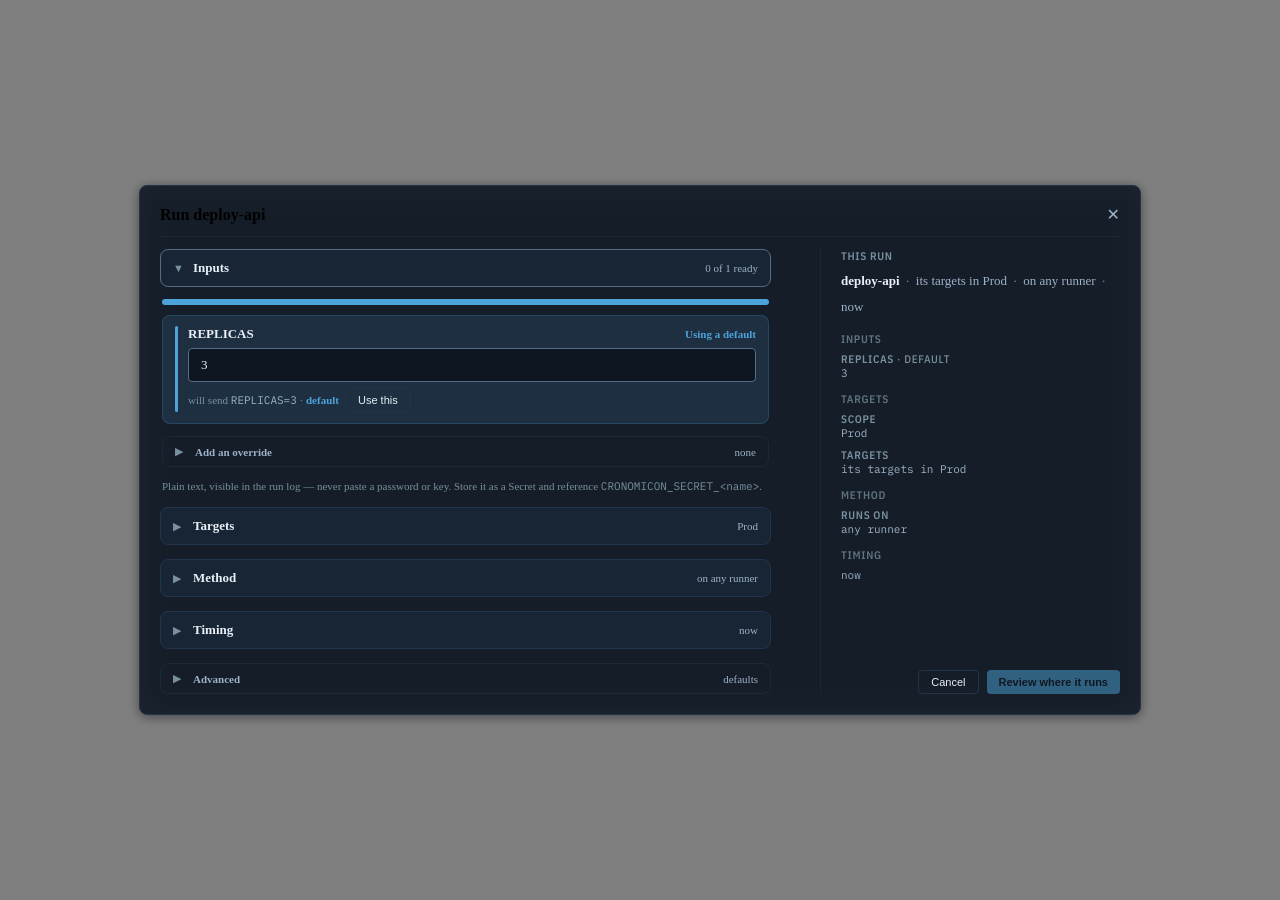
Scenario: RunDialog — run inputs › a required default is sent, shown as 'default', and confirmable without gating
Step 1. Click the button "▶ Targets Prod" → (214,526), box [160,507,771,545]
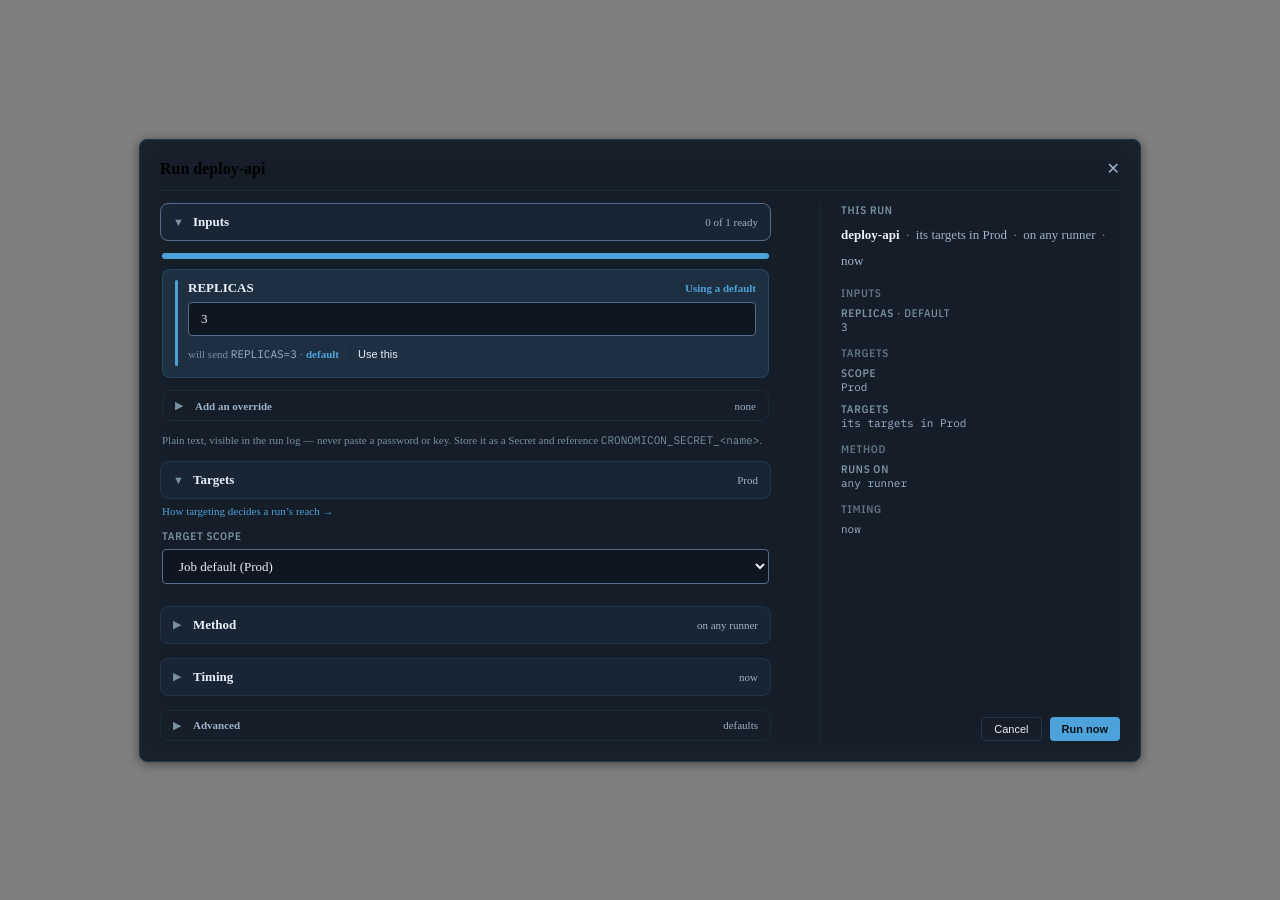
Step 2. Click the button "▶ Method on any runner" → (215,624), box [160,606,771,644]
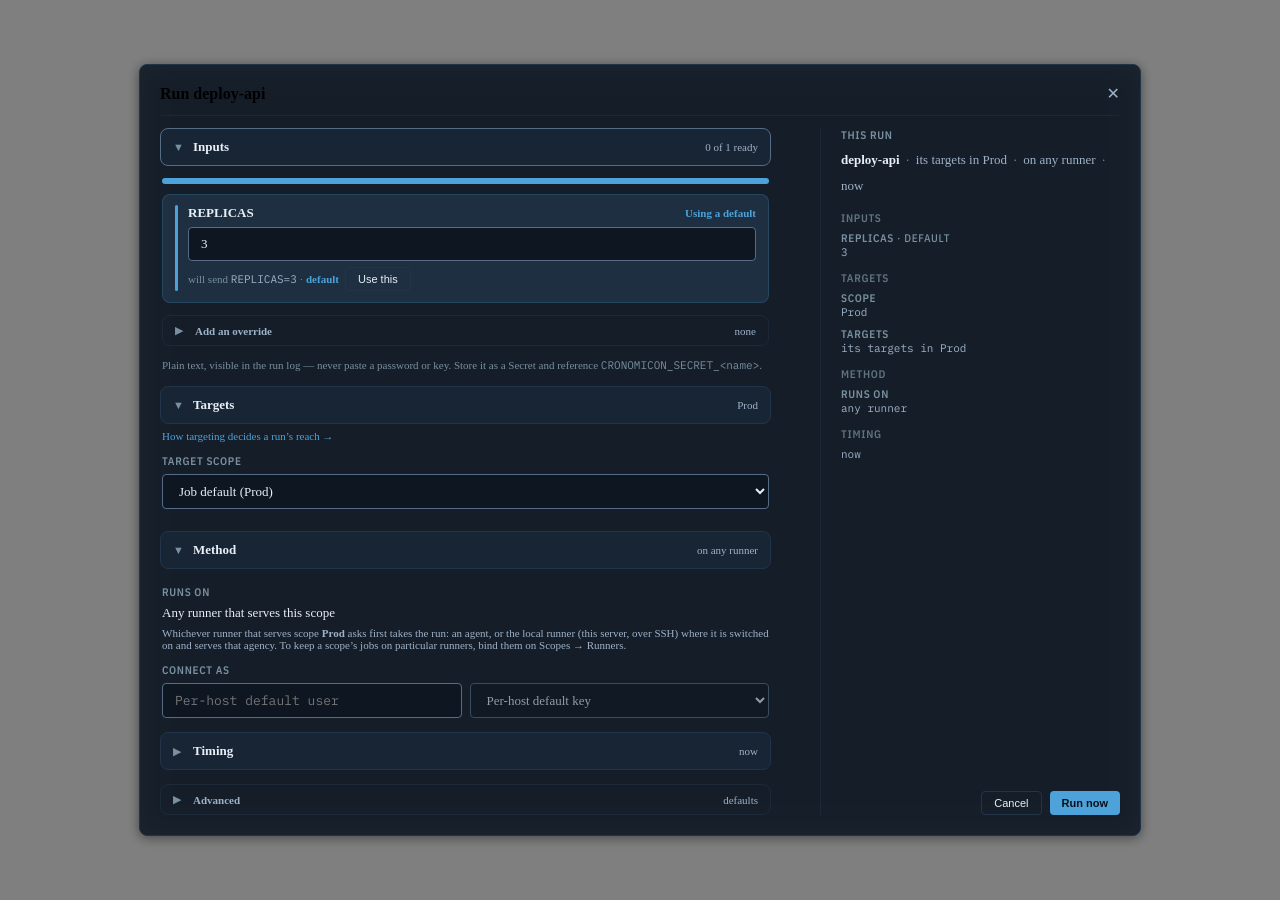
Expected: the text "REPLICAS=3" is shown, [231,272,297,286]
Now the button "Run now" is enabled, box [1050,791,1120,815]
Now the button "Run now" is shown, box [1050,791,1120,815]
Step 3. Click the button "Use this" → (378,279), box [345,267,411,291]
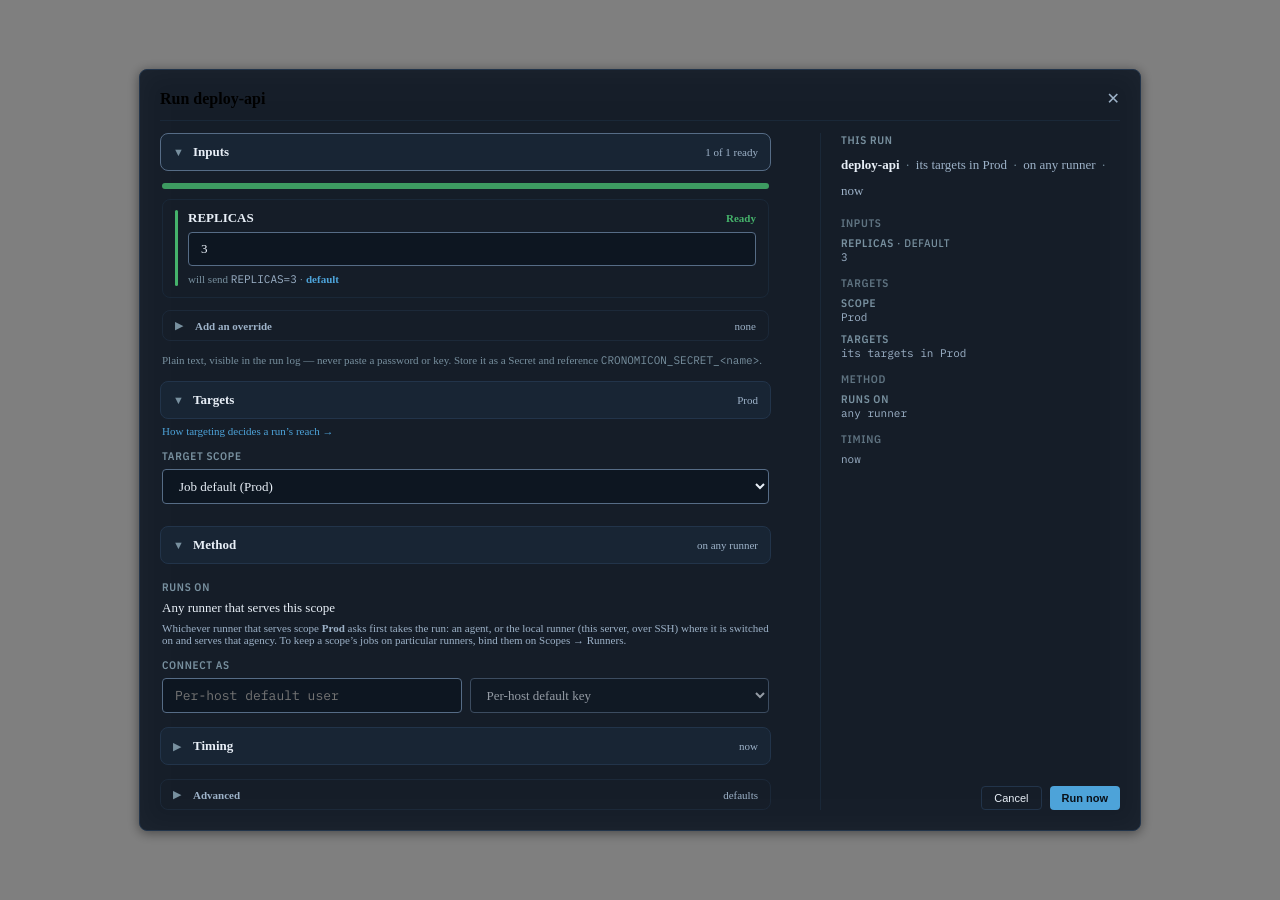
Expected: the text "REPLICAS=3" is shown, [231,272,297,286]
Now the button "Use this" is gone
Now the text "Ready" is shown, box [726,212,756,224]
